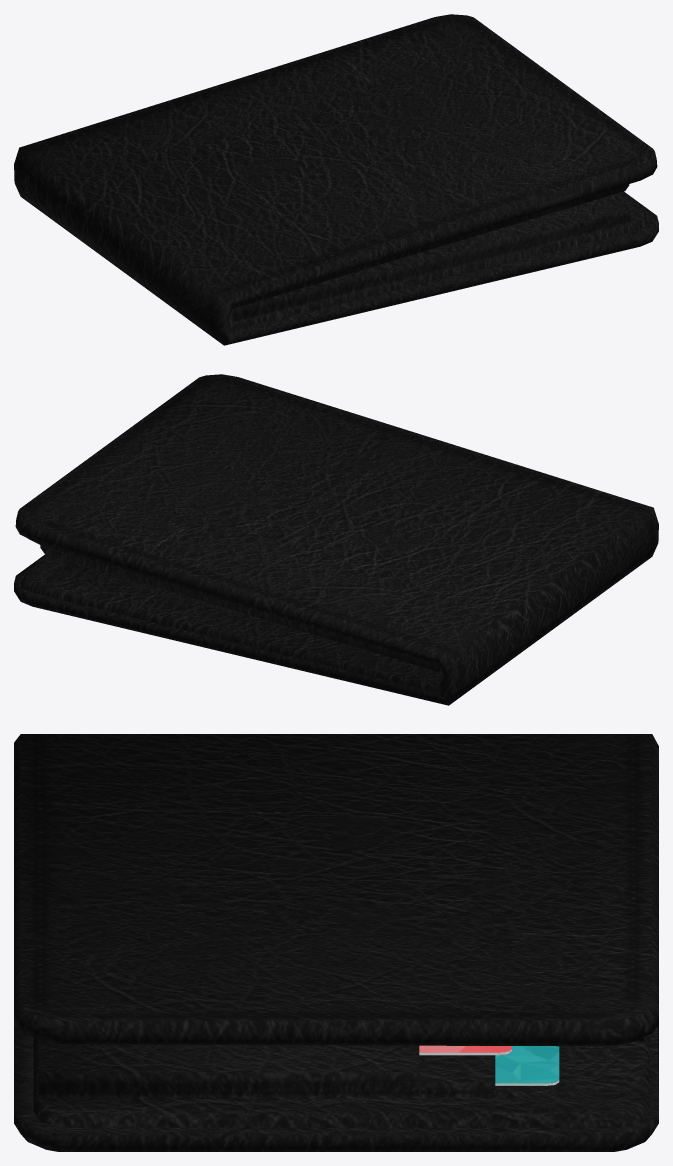
File: wallet_01.fbx
3 renders of one model, top to bottom at view 1: azimuth 30°, elevation 25°; view 2: azimuth 150°, elevation 25°; view 3: azimuth 270°, elevation 25°, orthographic. The views are drawn at different scales.
Visible parts, largest first — view 1: wallet_01; view 2: wallet_01; view 3: wallet_01, wallet_01.card 02, wallet_01.card 01.
Boxes of the visible parts, x1,y1,x2,y2 form: wallet_01: [14, 14, 658, 345]; wallet_01: [14, 374, 658, 705]; wallet_01: [14, 734, 658, 1151]; wallet_01.card 02: [495, 1046, 559, 1085]; wallet_01.card 01: [419, 1045, 511, 1055].
Size of the model in its own units: 42.57 by 7.47 by 33.78.
